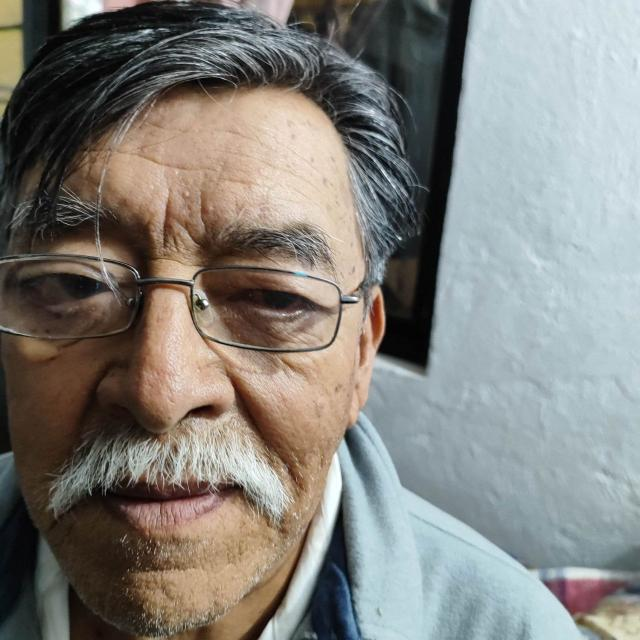ear: (347, 289, 385, 428)
